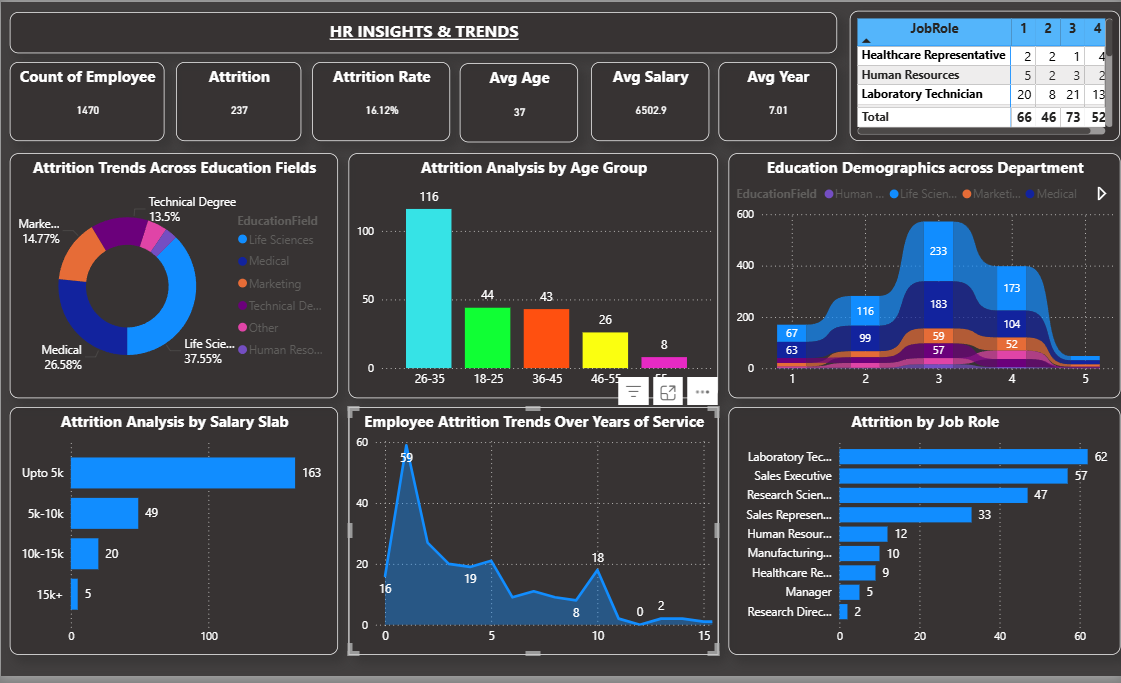

The dashboard page shown, as its layout file describes it:
{"tool":"powerbi","page":{"name":"Dashboard","canvas":[1280,770],"ordinal":1},"visuals":[{"type":"textbox","box":[9.4,10.9,945.5,46.9],"z":0},{"type":"card","title":"Count of Employee","fields":{"Values":["CountNonNull(HR_Analytics.EmpID)"]},"box":[9.5,68.3,176.4,90.6],"z":1000},{"type":"card","title":"Attrition ","fields":{"Values":["Sum(HR_Analytics.Attrition_Count)"]},"box":[200.3,68.3,143,90.6],"z":2000},{"type":"card","title":"Attrition Rate","fields":{"Values":["HR_Analytics.AttritionRate"]},"box":[356,68.3,157.4,90.6],"z":3000},{"type":"card","title":"Avg Age","fields":{"Values":["HR_Analytics.Avg Age"]},"box":[524.5,69.9,135.1,90.6],"z":4000},{"type":"card","title":"Avg Salary","fields":{"Values":["HR_Analytics.Avg_Salary"]},"box":[673.9,68.3,135.1,90.6],"z":5000},{"type":"card","title":"Avg Year","fields":{"Values":["Avg(HR_Analytics.YearsAtCompany)"]},"box":[820.1,68.3,135.1,90.6],"z":6000},{"type":"donutChart","title":"Attrition Trends Across Education Fields","fields":{"Category":["HR_Analytics.EducationField"],"Y":["HR_Analytics.Sum_Attrition_Count"]},"box":[9.5,173.2,375.1,279.7],"z":7000},{"type":"columnChart","title":"Attrition Analysis by Age Group","fields":{"Category":["HR_Analytics.AgeGroup"],"Y":["HR_Analytics.Sum_Attrition_Count"]},"box":[397.4,173.2,422.8,279.7],"z":8000},{"type":"ribbonChart","title":"Education Demographics across Department ","fields":{"Category":["HR_Analytics.Education"],"Y":["CountNonNull(HR_Analytics.Department)"],"Series":["HR_Analytics.EducationField"]},"box":[831.3,173.2,448.2,279.7],"z":9000},{"type":"barChart","title":"Attrition Analysis by Salary Slab","fields":{"Category":["HR_Analytics.SalarySlab"],"Y":["HR_Analytics.Sum_Attrition_Count"]},"box":[9.6,463.4,375.5,282.8],"z":10000},{"type":"areaChart","title":"Employee Attrition Trends Over Years of Service","fields":{"Category":["HR_Analytics.YearsAtCompany"],"Y":["HR_Analytics.Sum_Attrition_Count"]},"box":[397,463,423,283],"z":11000},{"type":"barChart","title":"Attrition by Job Role","fields":{"Category":["HR_Analytics.JobRole"],"Y":["HR_Analytics.Sum_Attrition_Count"]},"box":[831,463,448,283],"z":12000},{"type":"pivotTable","fields":{"Rows":["HR_Analytics.JobRole"],"Columns":["HR_Analytics.JobSatisfaction"],"Values":["HR_Analytics.Sum_Attrition_Count"]},"box":[970,9.6,308.4,148.6],"z":13000}]}

Visuals, with their boxes in screenshot pixels (x1, y1, x2, y2), scaled from the page's 1280x770 canvas onto the 1121x683 screenshot:
textbox: <region>8, 10, 836, 51</region>
"Count of Employee" card: <region>8, 61, 163, 141</region>
"Attrition " card: <region>175, 61, 301, 141</region>
"Attrition Rate" card: <region>312, 61, 450, 141</region>
"Avg Age" card: <region>459, 62, 578, 142</region>
"Avg Salary" card: <region>590, 61, 709, 141</region>
"Avg Year" card: <region>718, 61, 837, 141</region>
"Attrition Trends Across Education Fields" donutChart: <region>8, 154, 337, 402</region>
"Attrition Analysis by Age Group" columnChart: <region>348, 154, 718, 402</region>
"Education Demographics across Department " ribbonChart: <region>728, 154, 1120, 402</region>
"Attrition Analysis by Salary Slab" barChart: <region>8, 411, 337, 662</region>
"Employee Attrition Trends Over Years of Service" areaChart: <region>348, 411, 718, 662</region>
"Attrition by Job Role" barChart: <region>728, 411, 1120, 662</region>
pivotTable - HR_Analytics.JobRole x HR_Analytics.JobSatisfaction: <region>850, 9, 1120, 140</region>
